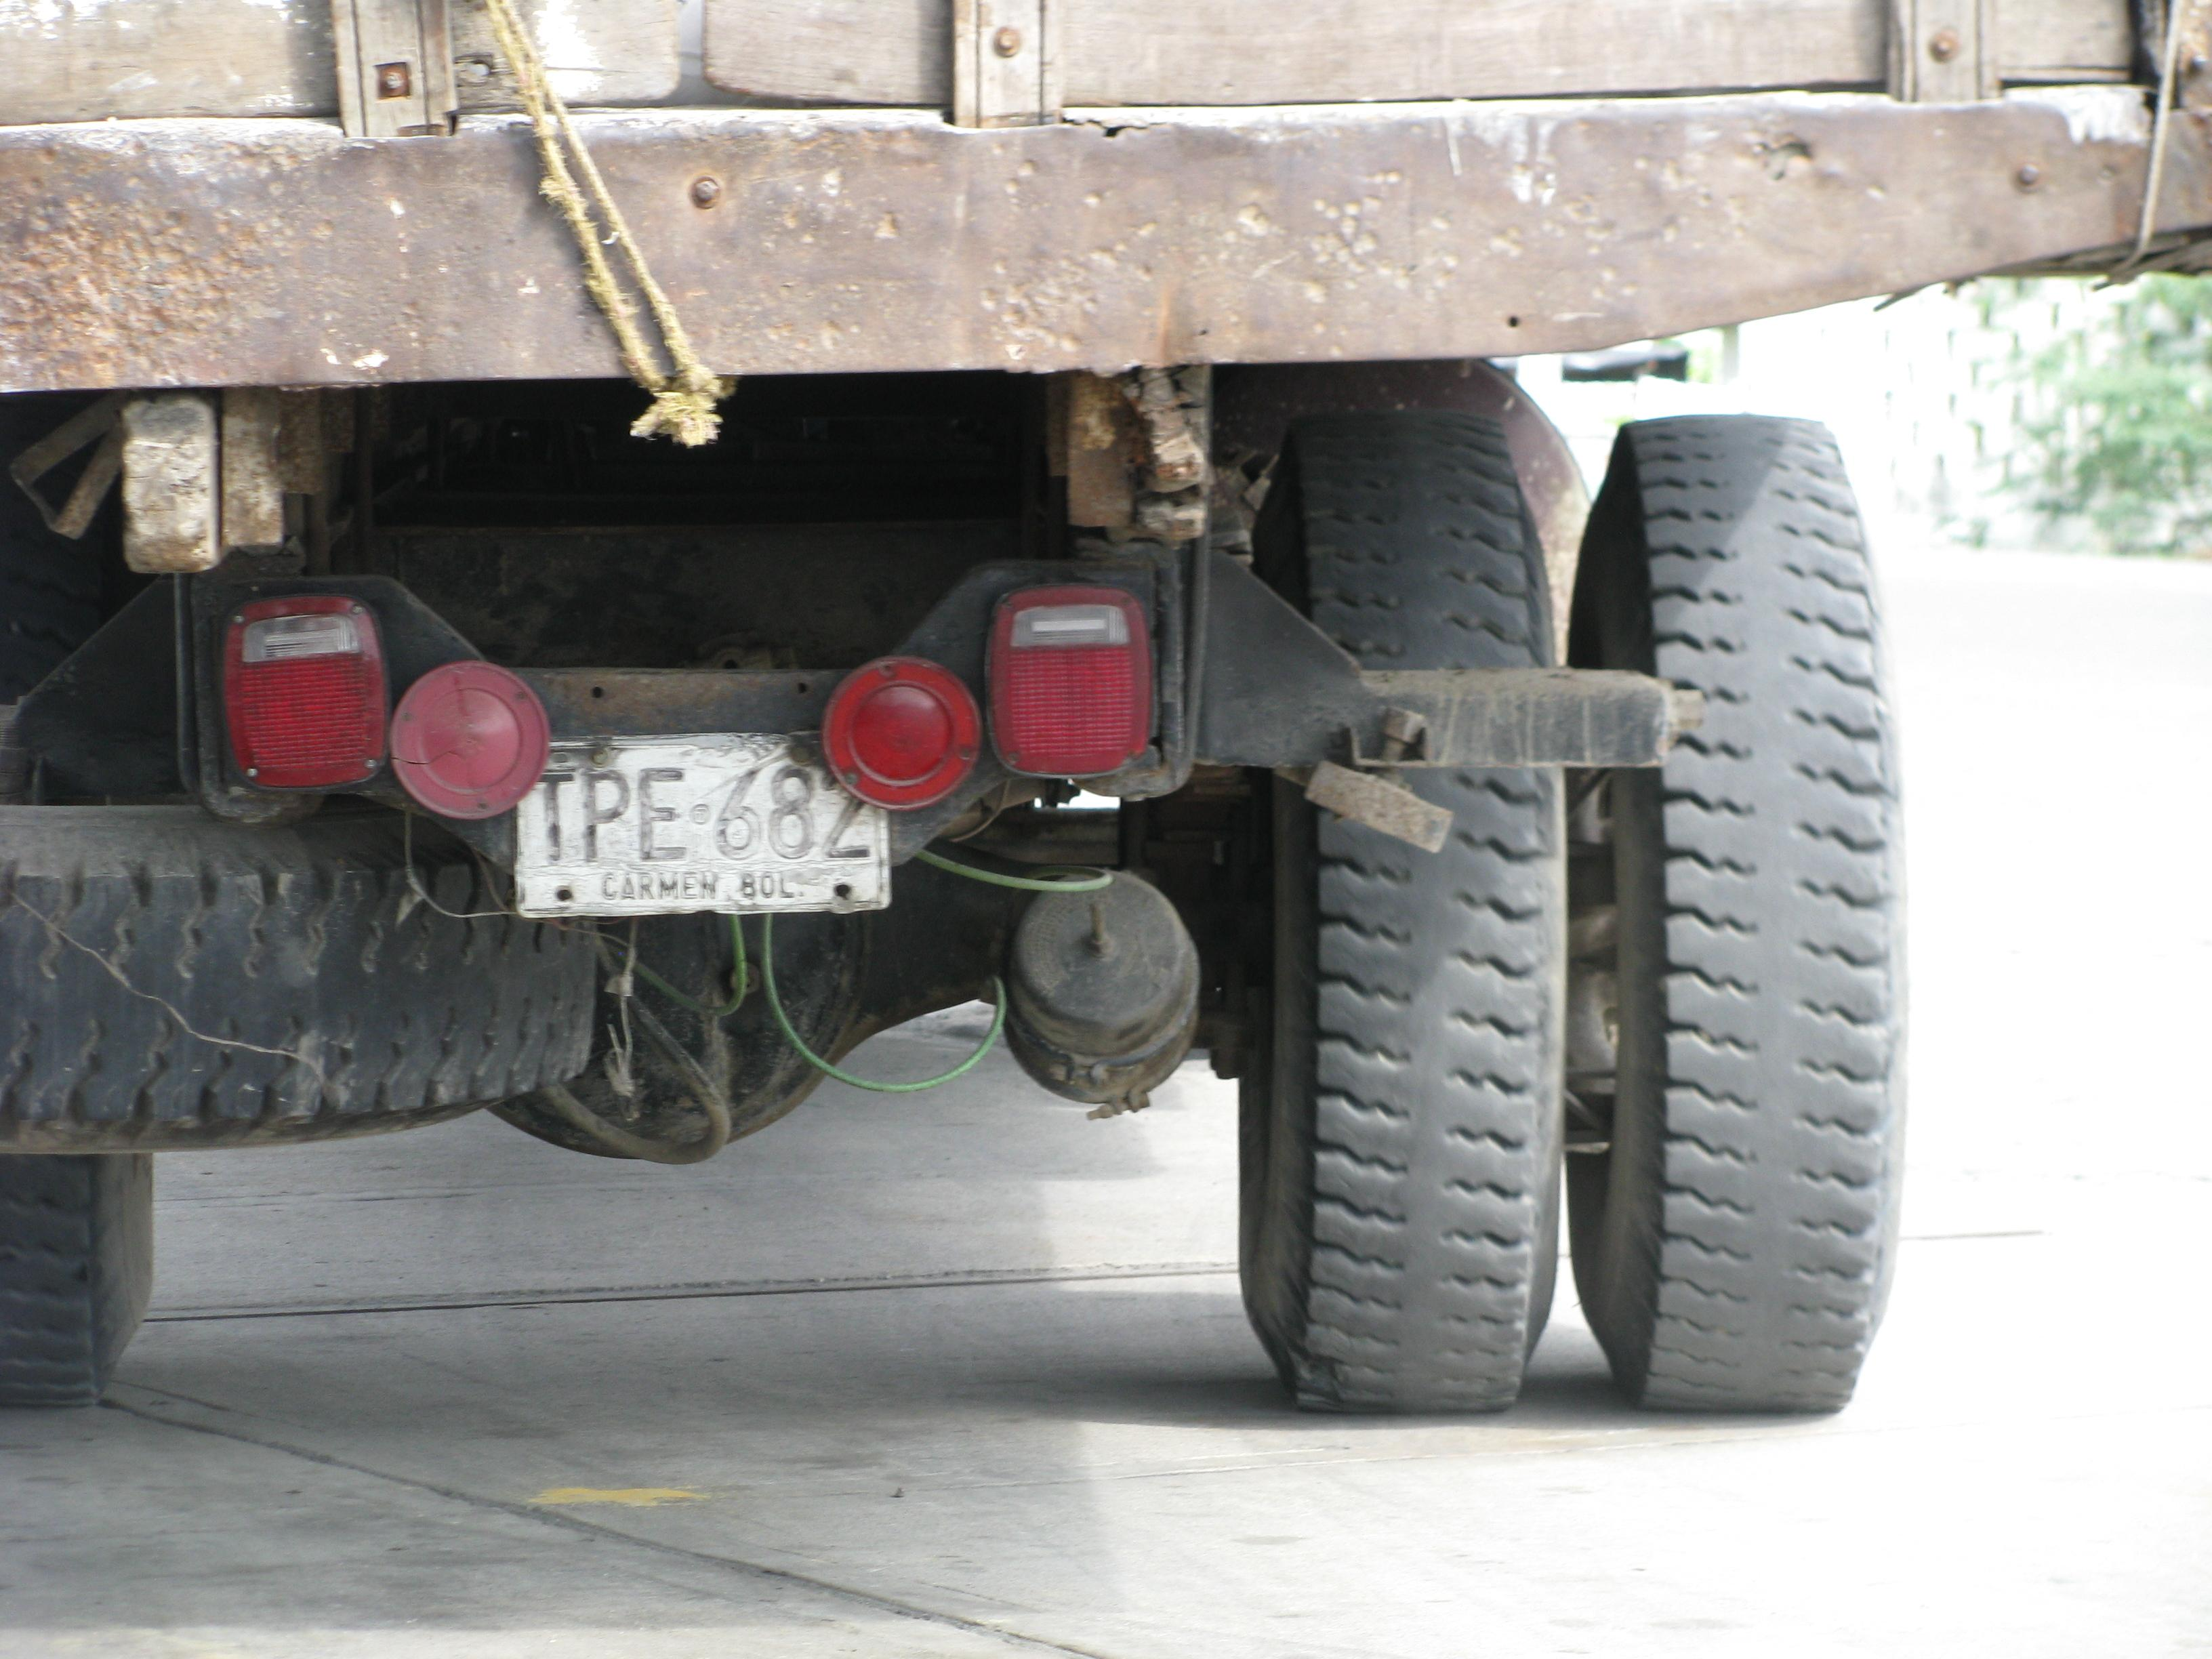placas: (503, 721, 904, 926)
